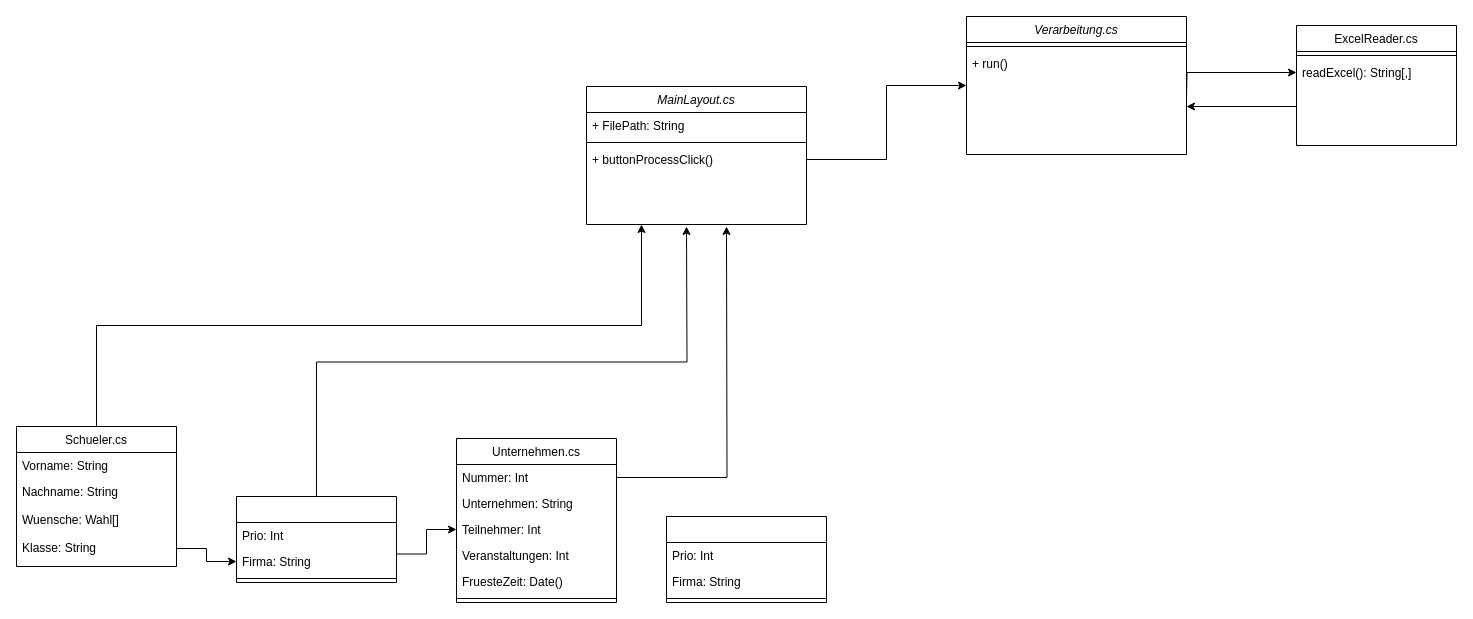
Image size: 1473x619. Some labels were removed from this diagram. The box of each missing label's shape, as (x1, y1, x2, y2) in pixels:
Raumliste.cs: (666, 516, 826, 602)
Wahl.cs: (236, 496, 396, 582)
